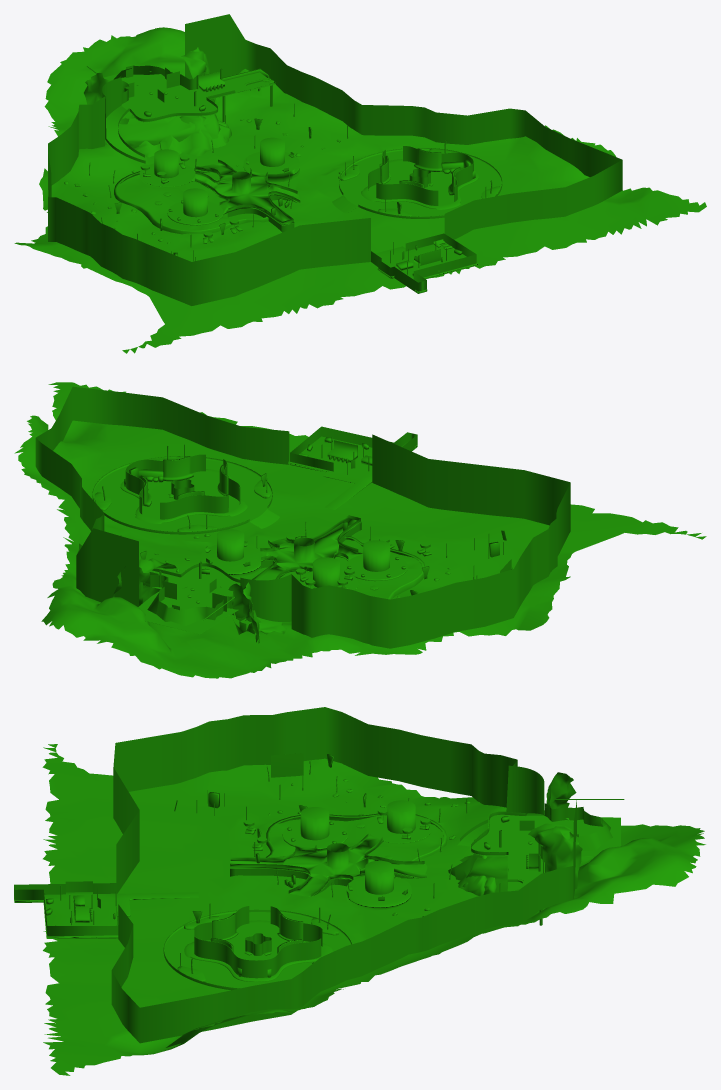
File: SamsungBeach_Collider_v5.glb
3 renders of one model, top to bottom at view 1: azimuth 30°, elevation 25°; view 2: azimuth 150°, elevation 25°; view 3: azimuth 270°, elevation 25°, orthographic. The views are drawn at different scales.
Parts seen in each view (by area): view 1: mk_collider; view 2: mk_collider; view 3: mk_collider.
Boxes of the visible parts, x1,y1,x2,y2 form: mk_collider: (14,14,706,353); mk_collider: (14,382,706,678); mk_collider: (14,707,705,1075).
Size of the model in its own units: 182 by 28.72 by 160.
